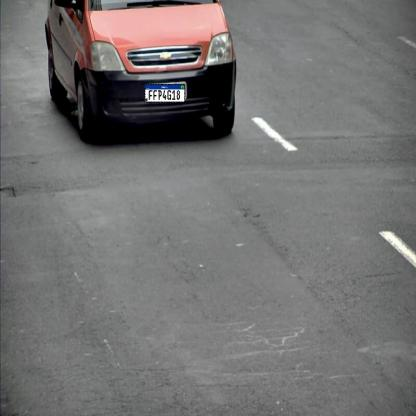PlacaM: (145, 84, 185, 103)
